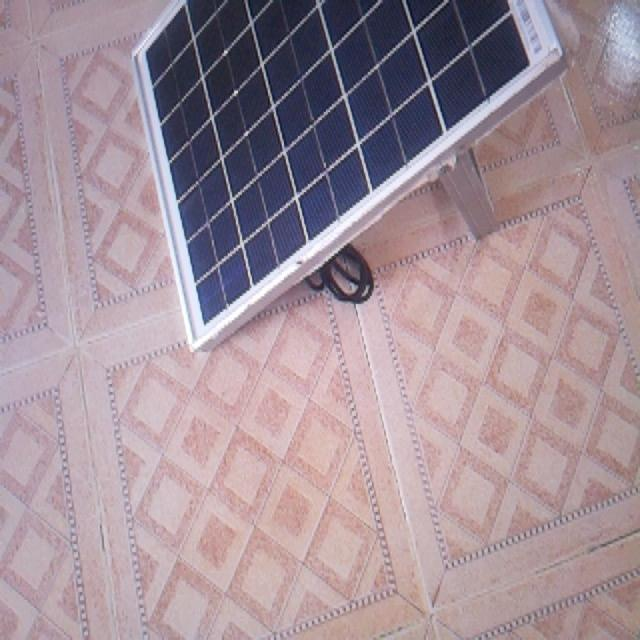Normal Solar Panel: (135, 0, 565, 349)
